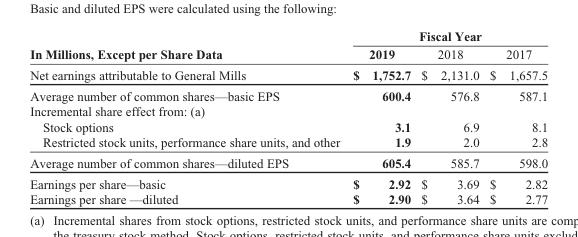table: (29, 28, 547, 206)
table column: (29, 28, 345, 206), (345, 28, 415, 206), (415, 28, 483, 206), (483, 28, 547, 206)
table column header: (29, 28, 547, 64)
table projected row header: (29, 103, 547, 118)
table row: (29, 64, 547, 85), (29, 152, 547, 172), (29, 45, 547, 64), (29, 172, 547, 191), (29, 85, 547, 103), (29, 134, 547, 152), (29, 28, 547, 45), (29, 118, 547, 134), (29, 103, 547, 118), (29, 191, 547, 206)
table spanning cell: (29, 28, 345, 64), (345, 28, 547, 45)
